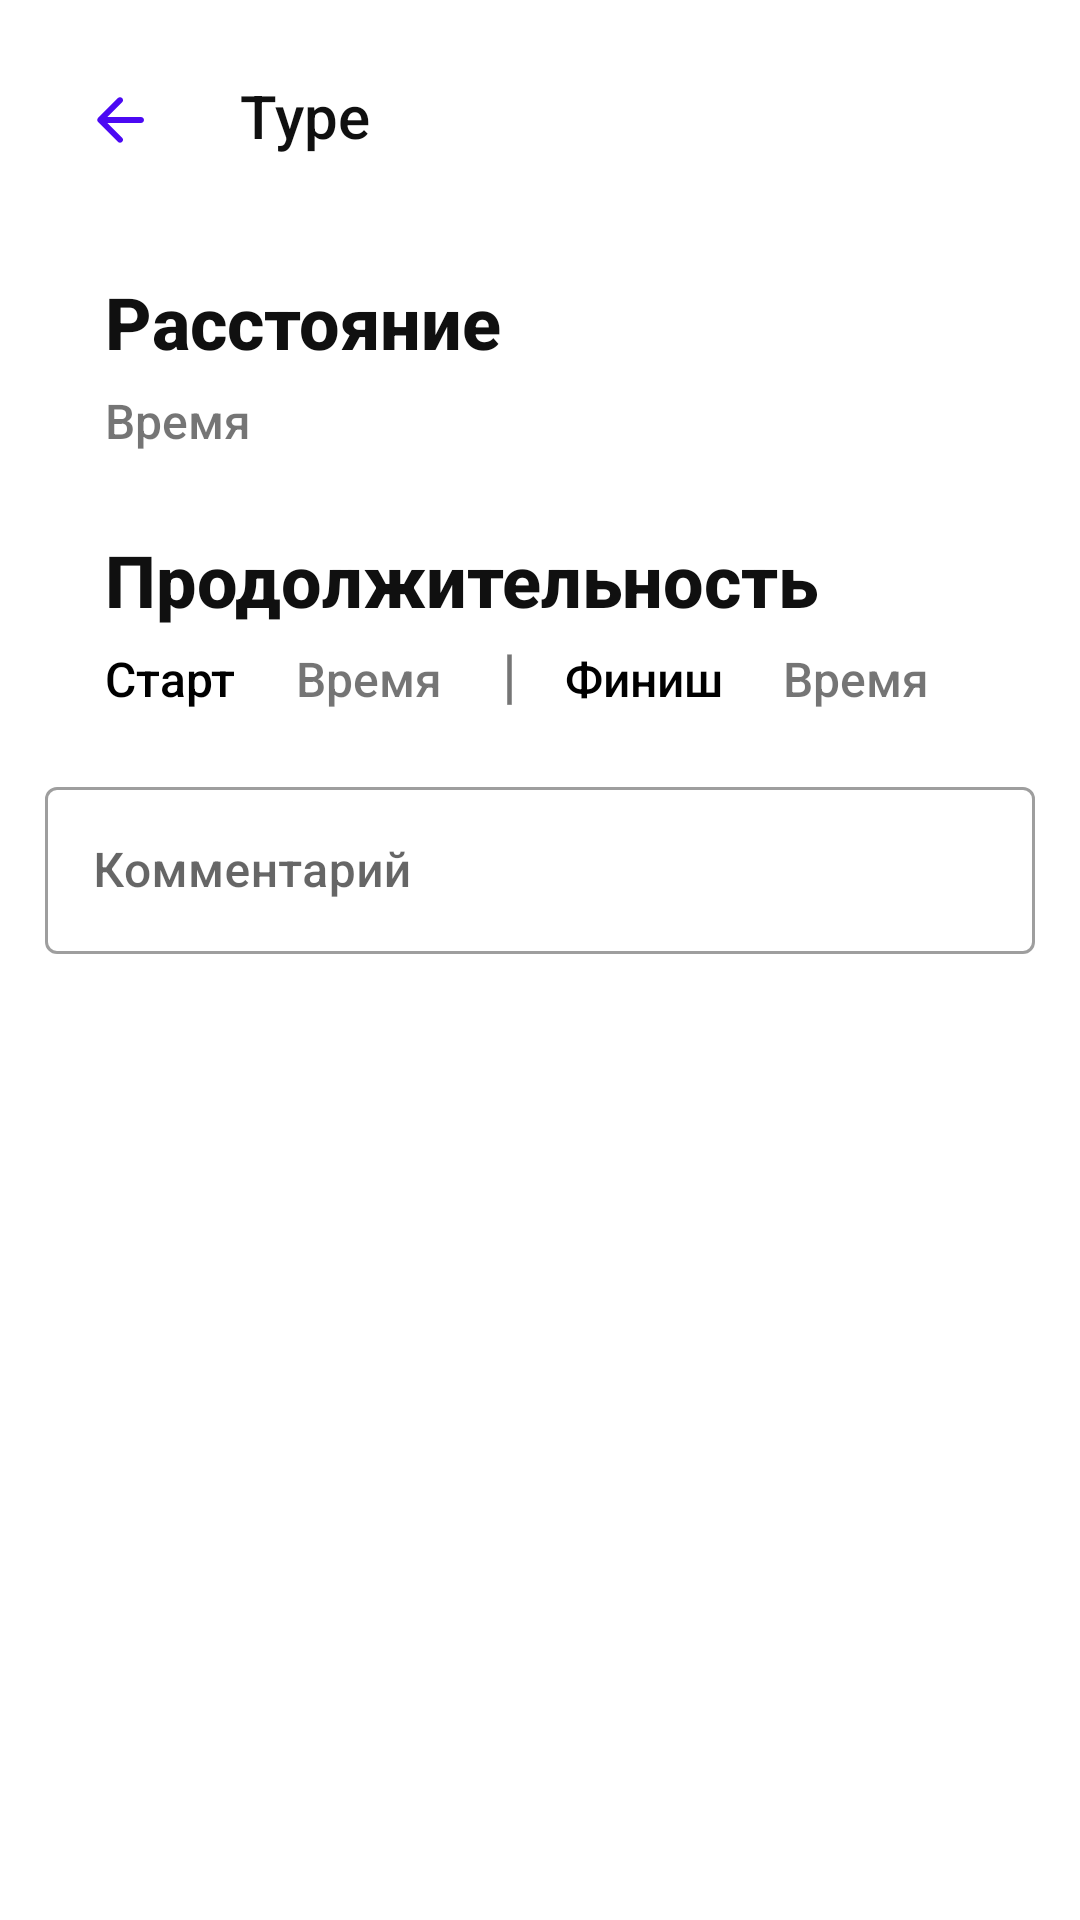

Where to tap for icons on this 1080px×1920px app screen, as (x=x, y=y):
arrow back: (x=120, y=120)
